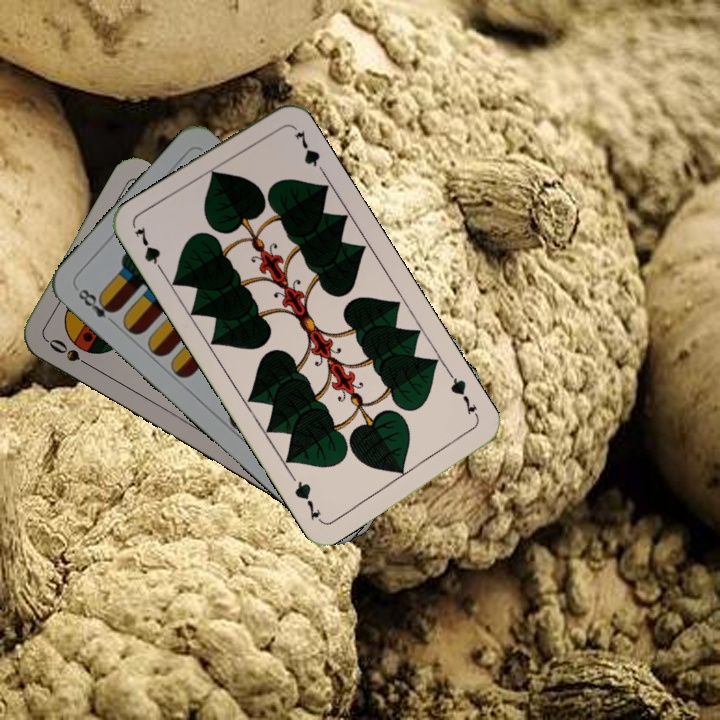E8: (74, 284, 119, 329)
G7: (130, 222, 168, 278), (445, 369, 482, 423)
SO: (43, 334, 97, 371)
